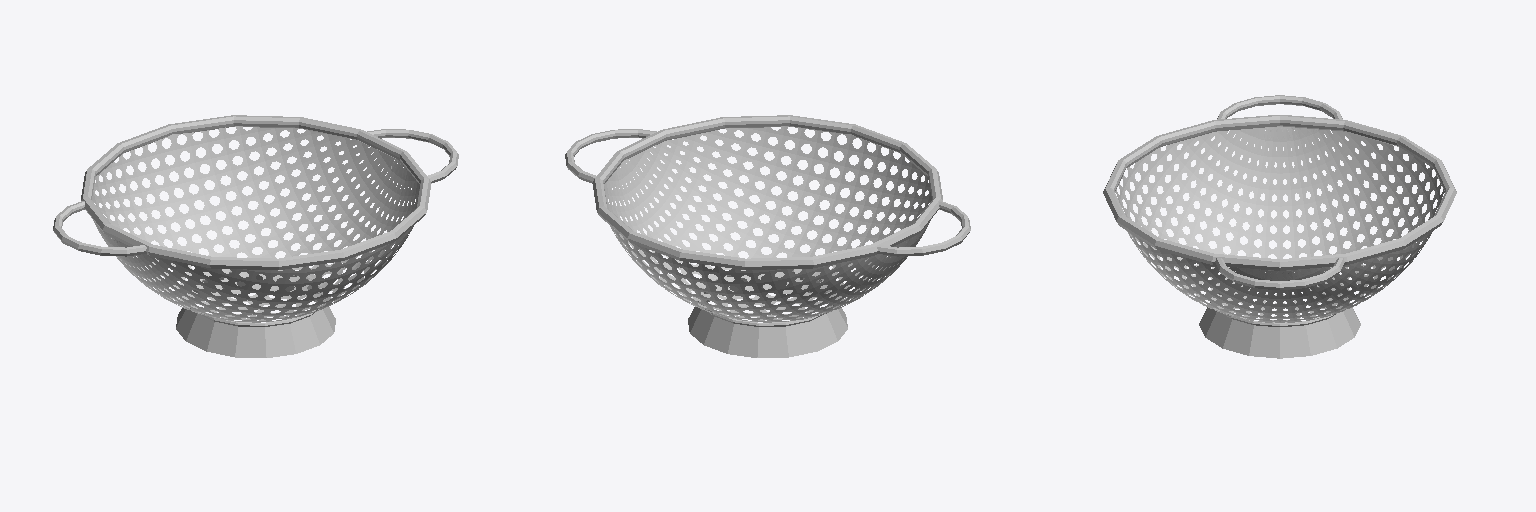
File: misc_strainer.obj
The picture shows the model from 3 angles: view 1: azimuth 30°, elevation 25°; view 2: azimuth 150°, elevation 25°; view 3: azimuth 270°, elevation 25°; orthographic projection.
Visible parts, largest first — view 1: misc_strainer_Sphere.004; view 2: misc_strainer_Sphere.004; view 3: misc_strainer_Sphere.004.
Boxes of the visible parts, <box> form: misc_strainer_Sphere.004: <box>53,115,458,357</box>; misc_strainer_Sphere.004: <box>565,115,970,357</box>; misc_strainer_Sphere.004: <box>1103,95,1456,358</box>.
Bounding box in the file's own units: 7.61 × 2.55 × 5.99.